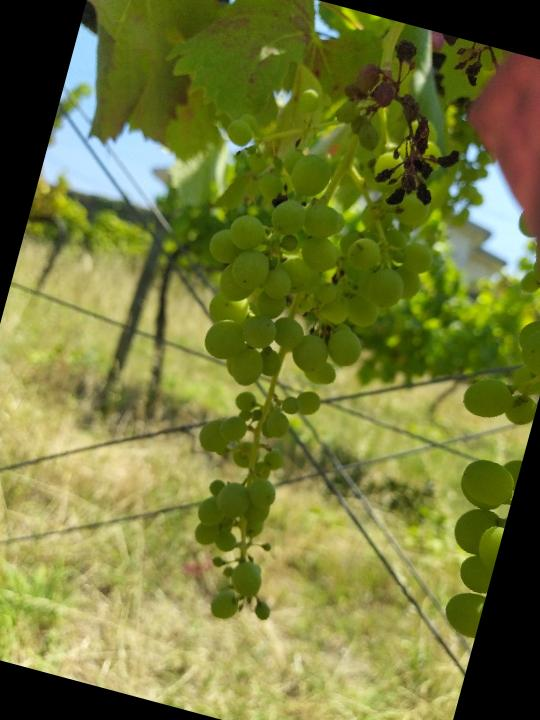grape: (100, 67, 470, 649), (315, 16, 519, 226)
